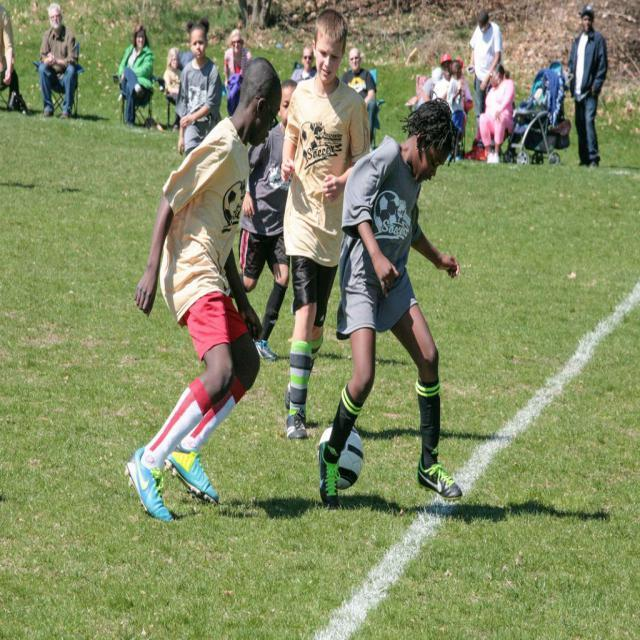football: (304, 423, 376, 495)
